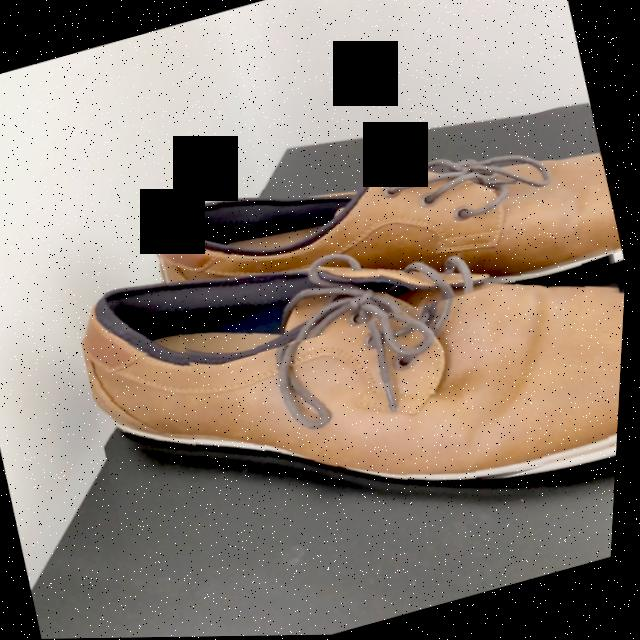shoe: (85, 156, 627, 485), (161, 161, 623, 282)
